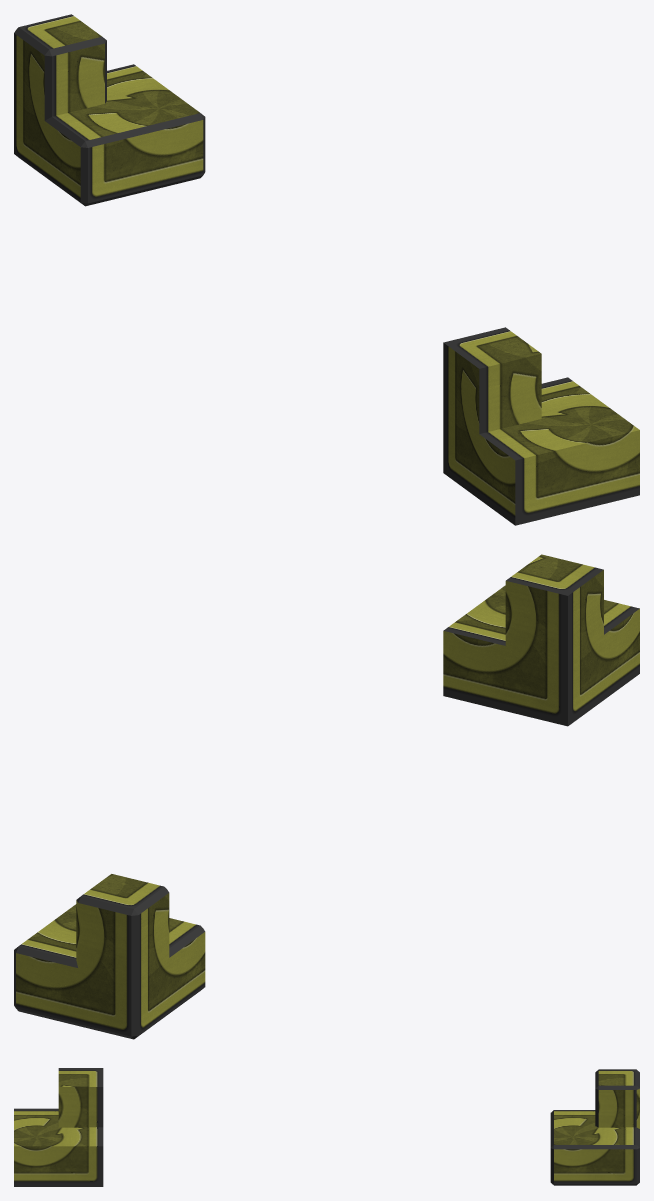
File: insetStep3.outsideCorner.fbx
3 renders of one model, top to bottom at view 1: azimuth 30°, elevation 25°; view 2: azimuth 150°, elevation 25°; view 3: azimuth 270°, elevation 25°, orthographic. The views are drawn at different scales.
Visible parts, largest first — view 1: MESH insetStep3.outsideCorner, MESH insetStep3.outsideCorner.c; view 2: MESH insetStep3.outsideCorner, MESH insetStep3.outsideCorner.c; view 3: MESH insetStep3.outsideCorner, MESH insetStep3.outsideCorner.c.
Part boxes in pixels (box(x1,y1,x2,y2)): MESH insetStep3.outsideCorner: box(443, 327, 639, 525); MESH insetStep3.outsideCorner.c: box(14, 14, 205, 206); MESH insetStep3.outsideCorner: box(443, 554, 639, 726); MESH insetStep3.outsideCorner.c: box(14, 874, 205, 1039); MESH insetStep3.outsideCorner: box(14, 1068, 103, 1186); MESH insetStep3.outsideCorner.c: box(550, 1069, 639, 1185).
Bounding box in the file's own units: 66.67 × 66.67 × 467.
